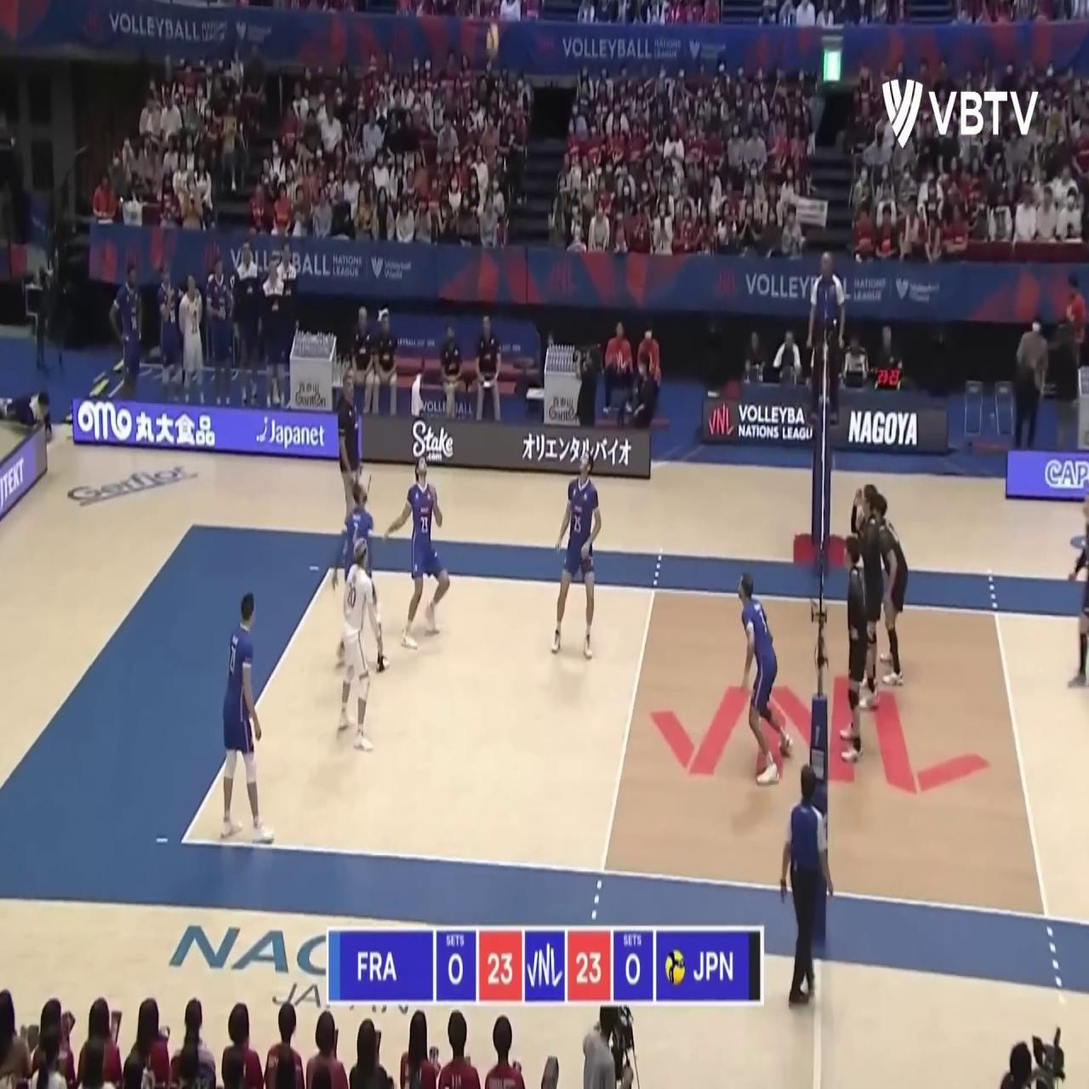ball: (486, 24, 500, 56)
